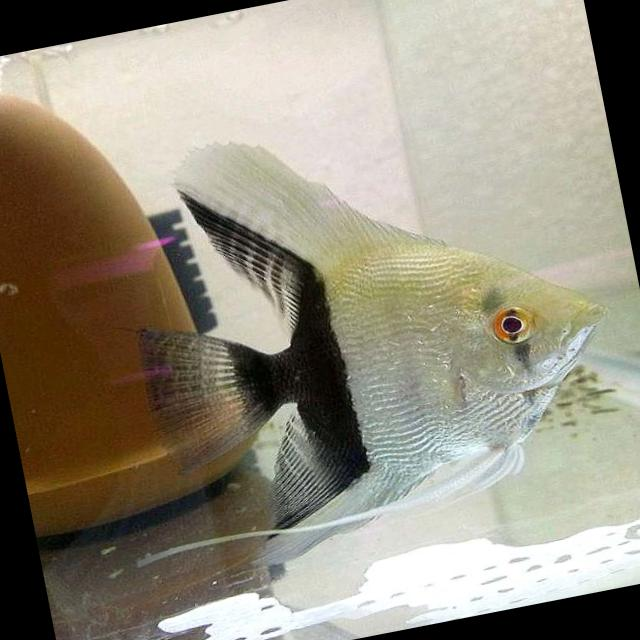AngelFish: (102, 81, 629, 560)
